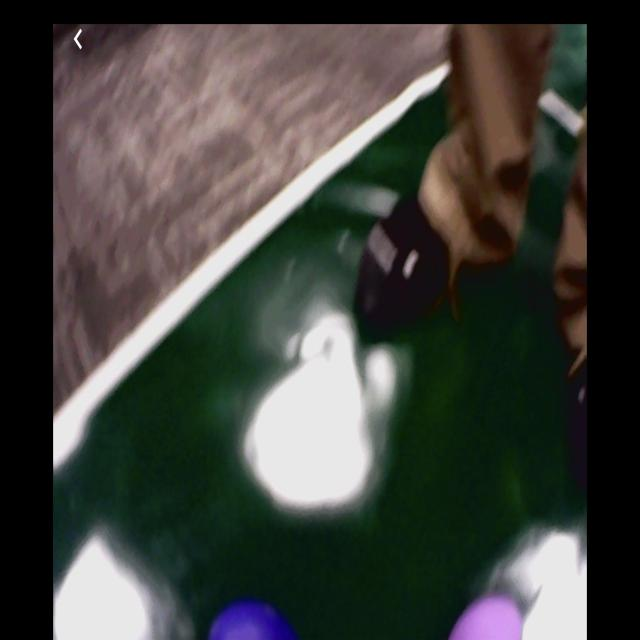ball: (446, 595, 523, 640), (210, 604, 298, 640)
